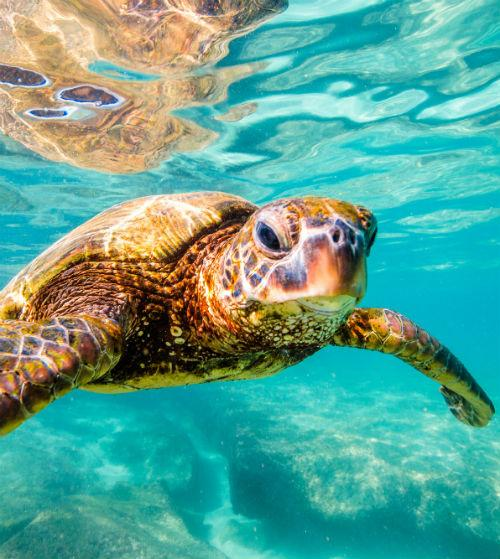turtle: (228, 184, 384, 344)
